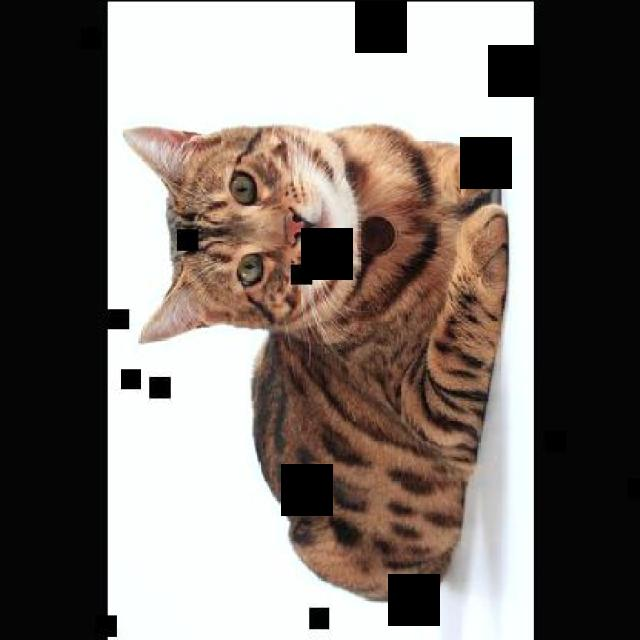unauthorized: (122, 121, 509, 602)
